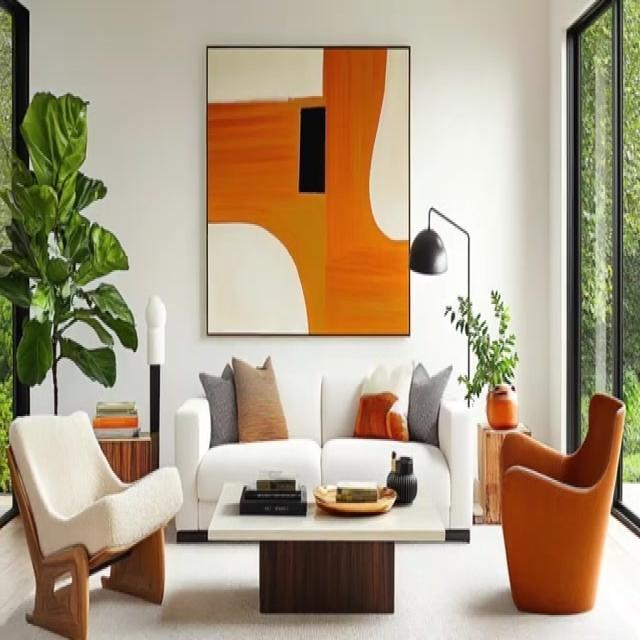obstacle: (173, 359, 474, 544), (6, 408, 183, 638), (207, 479, 445, 614), (498, 391, 625, 613)
